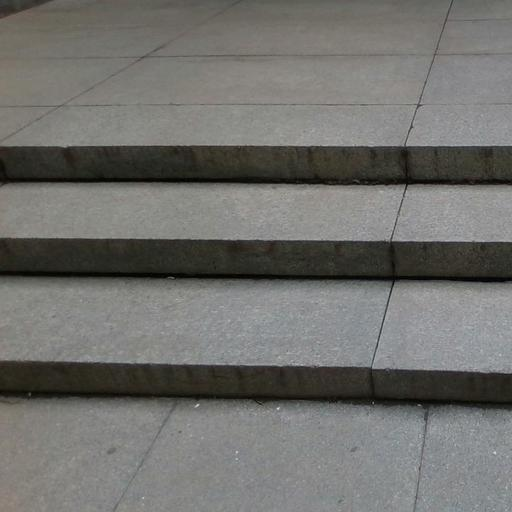stairs: (0, 174, 511, 401)
